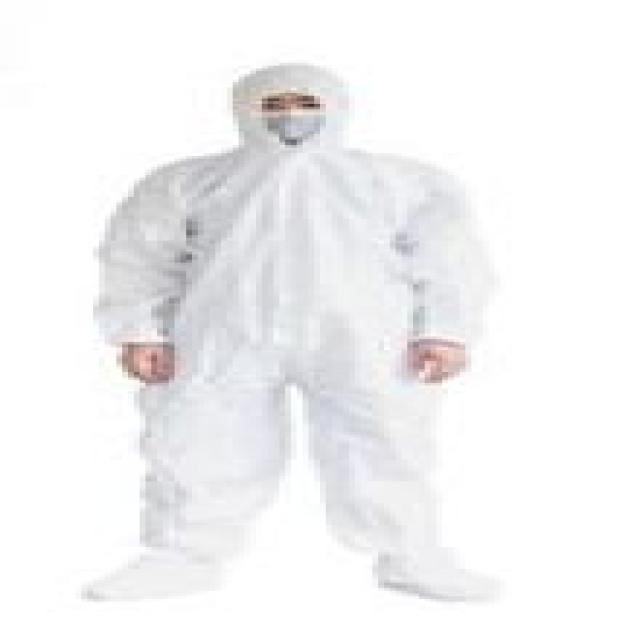Coverall: (70, 55, 518, 610)
Mask: (233, 104, 343, 137)
